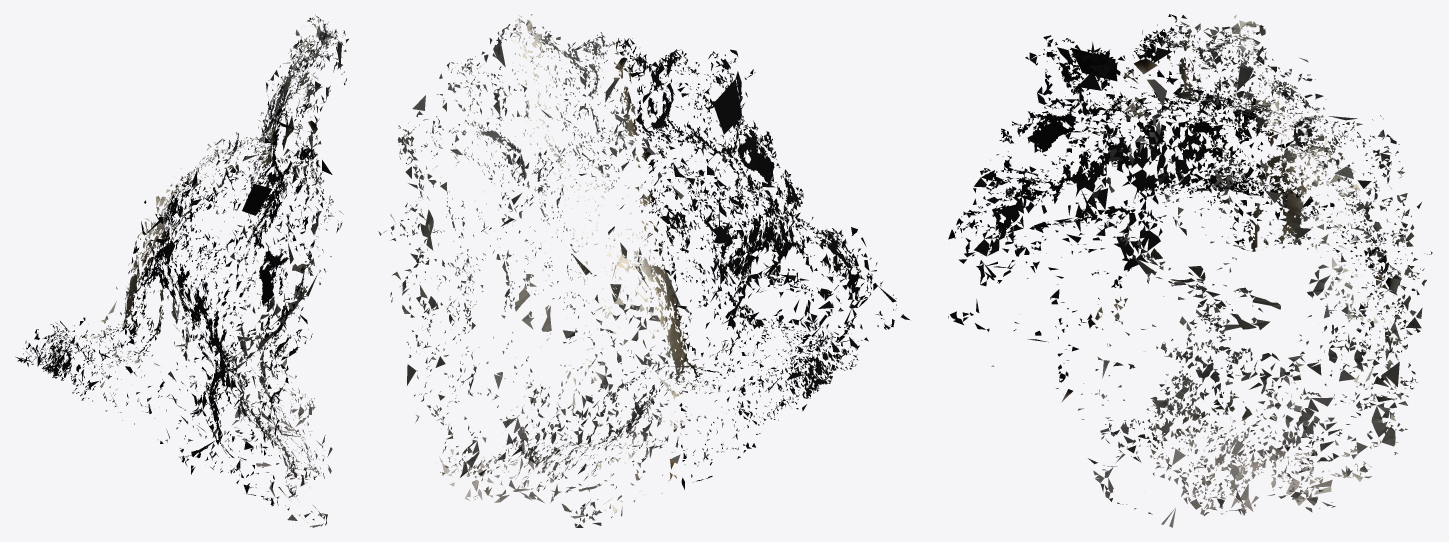
3 renders of one model, left to right at view 1: azimuth 30°, elevation 25°; view 2: azimuth 150°, elevation 25°; view 3: azimuth 270°, elevation 25°, orthographic. The views are drawn at different scales.
Visible parts, largest first — view 1: test9; view 2: test9; view 3: test9.
Part boxes in pixels (box(x1,y1,x2,y2)): test9: box(15, 14, 348, 527); test9: box(378, 14, 910, 527); test9: box(948, 14, 1432, 527).
Bounding box in the file's own units: 1.15 × 1.5 × 1.26.
Materials: 1 (1 with a texture image).
